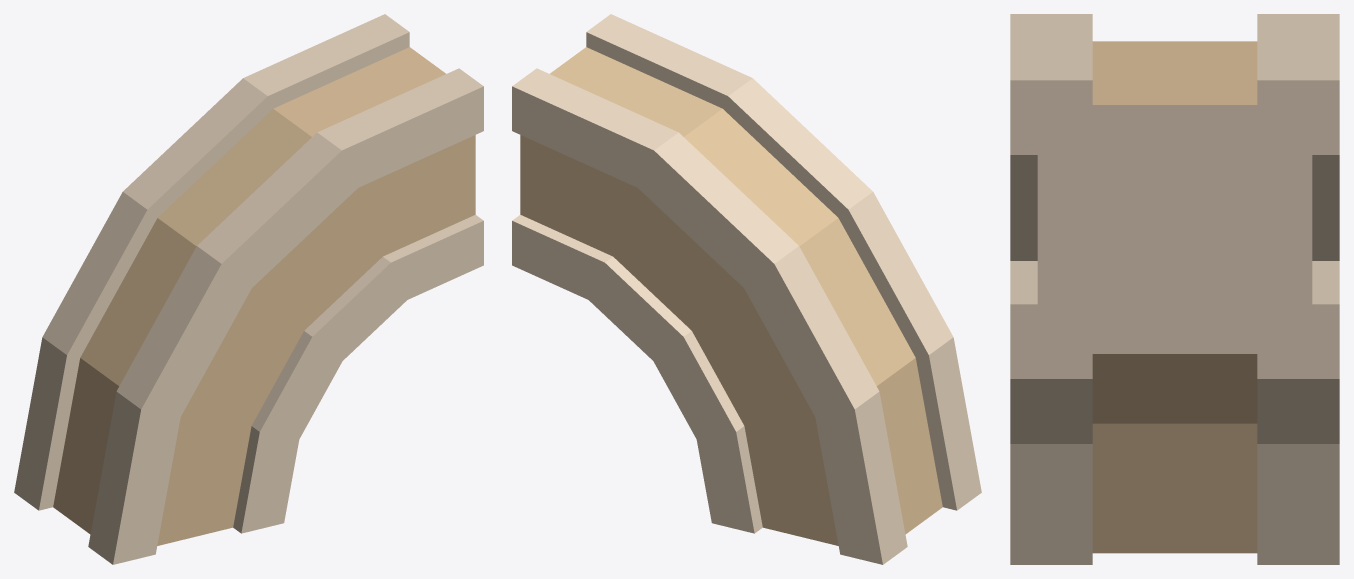
File: opengameart-modular-temple-3d-models-2_24.glb
3 views of the same model, side by side, from view 1: azimuth 30°, elevation 25°; view 2: azimuth 150°, elevation 25°; view 3: azimuth 270°, elevation 25° (orthographic). The views are drawn at different scales.
Parts seen in each view (by area): view 1: object1; view 2: object1; view 3: object1.
Boxes of the visible parts, <box> form: object1: <box>14,14,483,564</box>; object1: <box>512,14,981,564</box>; object1: <box>1010,14,1339,564</box>.
Bounding box in the file's own units: 1.3 × 1.3 × 0.6.
